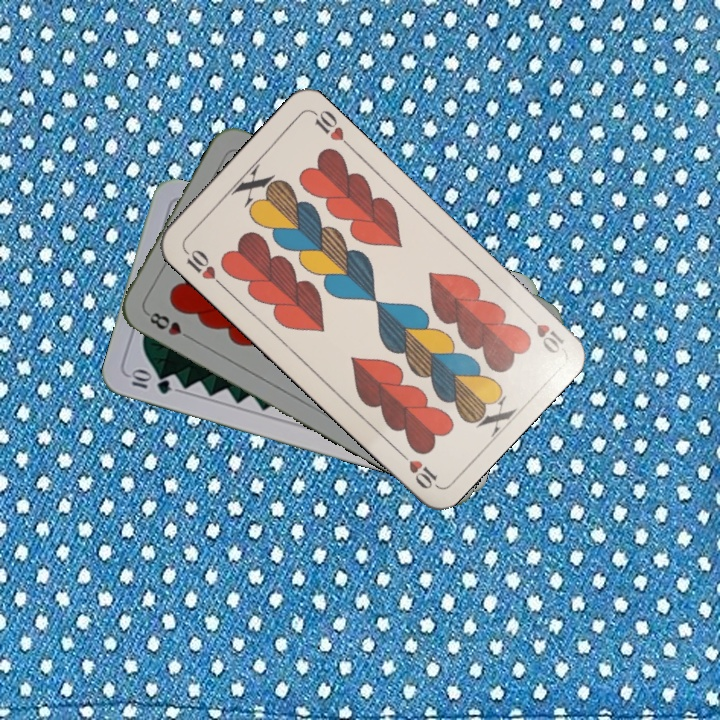G10: (125, 366, 175, 397)
H10: (519, 308, 567, 357), (179, 245, 227, 290)
H8: (142, 308, 196, 343)
